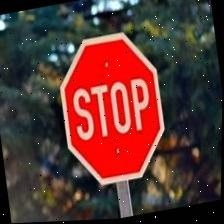Stop: (52, 24, 176, 194)
